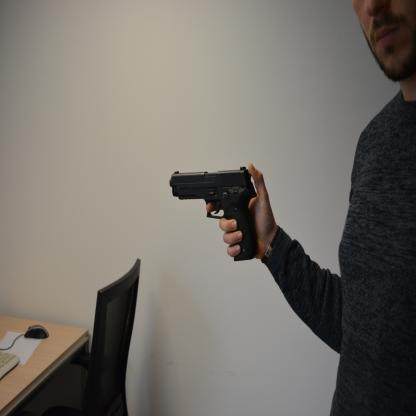pistol: (169, 166, 259, 262)
